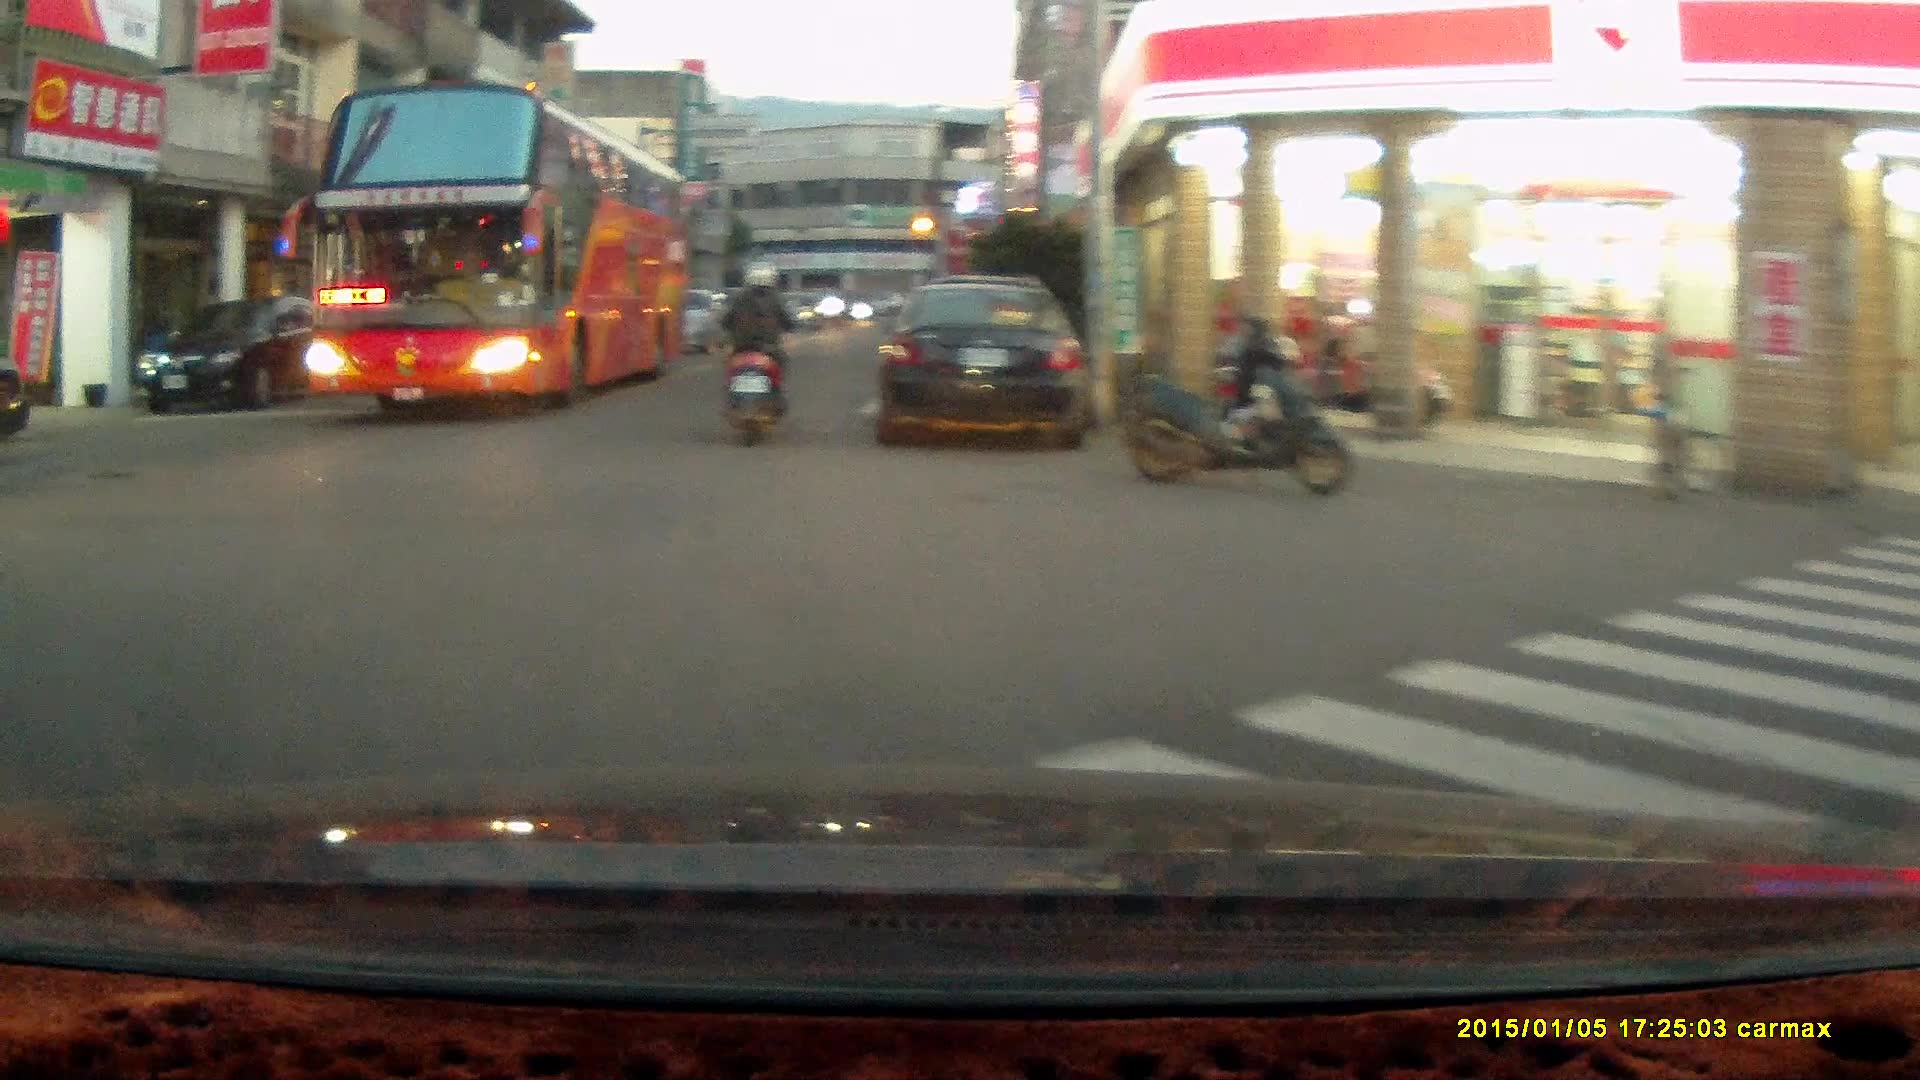rider: (705, 263, 790, 454)
vehicle: (298, 88, 696, 422), (870, 279, 1094, 450), (136, 296, 341, 409)
